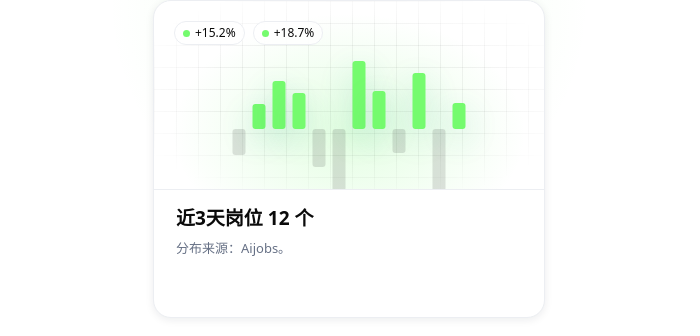
Test case: IntelligencePanel › breaks a multi-sentence narrative into letter-like paragraphs
What coordinates should you click on to do the following:
click the element named "打开猎场控制台"
I would click on:
 (349, 159)
Its box is x1=153 y1=0 x2=545 y2=318.
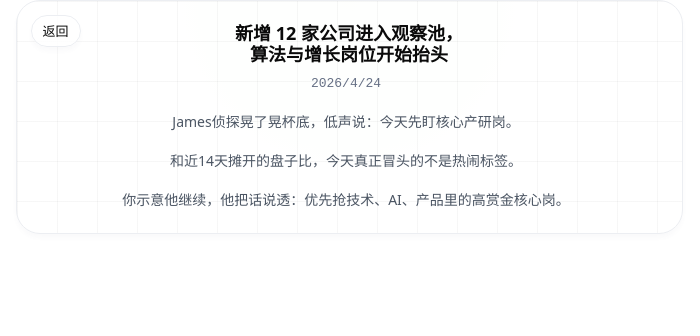
Check: the number of elements with class "intel-narrative" is 3, box x1=172 y1=110 x2=520 y2=133; x1=170 y1=149 x2=522 y2=172; x1=122 y1=188 x2=570 y2=211
Check: the text with class "intel-narrative" shows "James侦探晃了晃杯底", box x1=172 y1=112 x2=520 y2=130
Check: the text with class "intel-narrative" shows "今天真正冒头的不是热闹标签", box x1=170 y1=151 x2=522 y2=170
